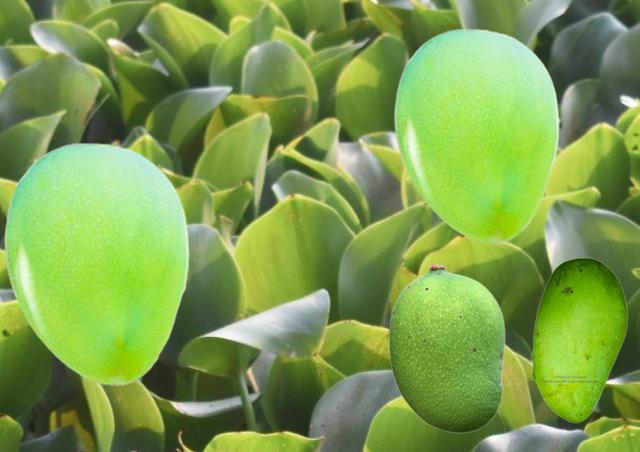green_mango: (3, 142, 188, 384), (393, 28, 558, 242), (388, 263, 504, 432), (530, 257, 627, 422)
